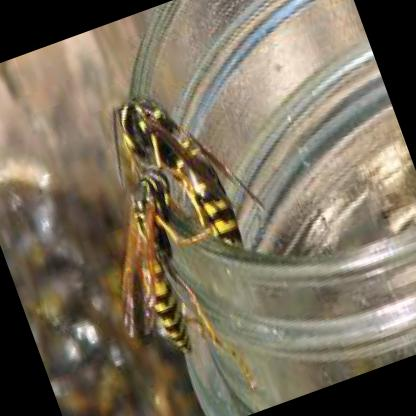other: (94, 158, 244, 387)
